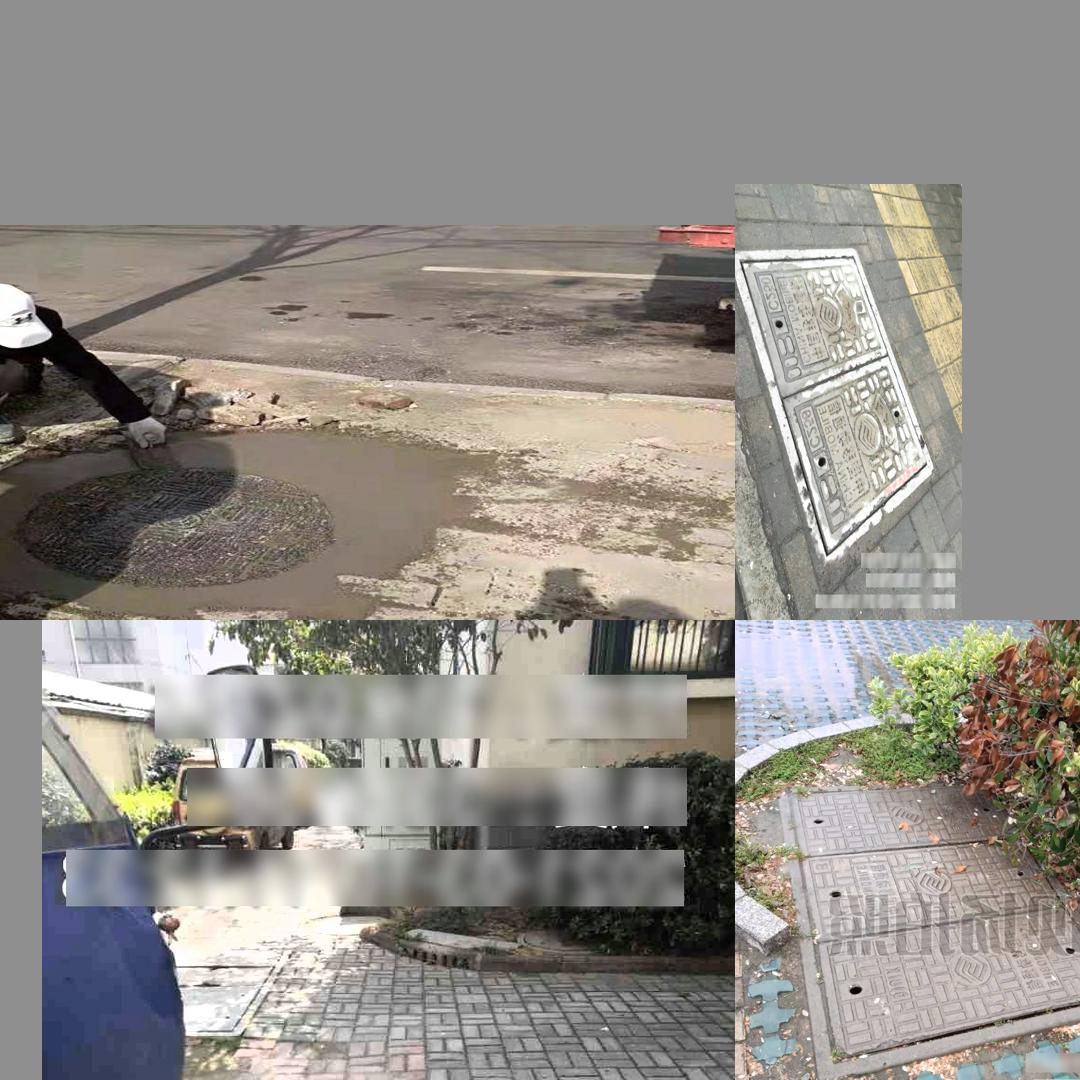good: (777, 785, 1080, 1080), (0, 427, 460, 611), (735, 246, 932, 563), (171, 941, 291, 1037)
